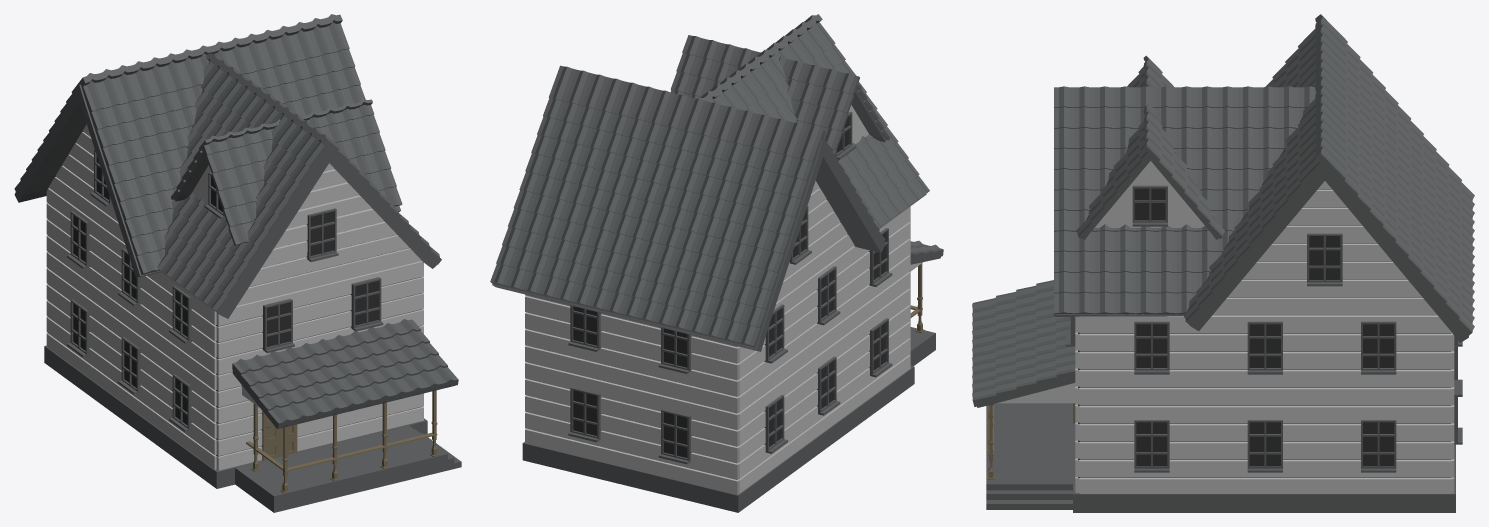
File: house.glb
3 renders of one model, left to right at view 1: azimuth 30°, elevation 25°; view 2: azimuth 150°, elevation 25°; view 3: azimuth 270°, elevation 25°, orthographic. The views are drawn at different scales.
Parts seen in each view (by area): view 1: House1; view 2: House1; view 3: House1.
Part boxes in pixels (x1,y1,x2,y2): House1: [14, 14, 461, 512]; House1: [490, 14, 943, 512]; House1: [972, 14, 1474, 512].
Bounding box in the file's own units: 2.56 × 3.18 × 3.87.
